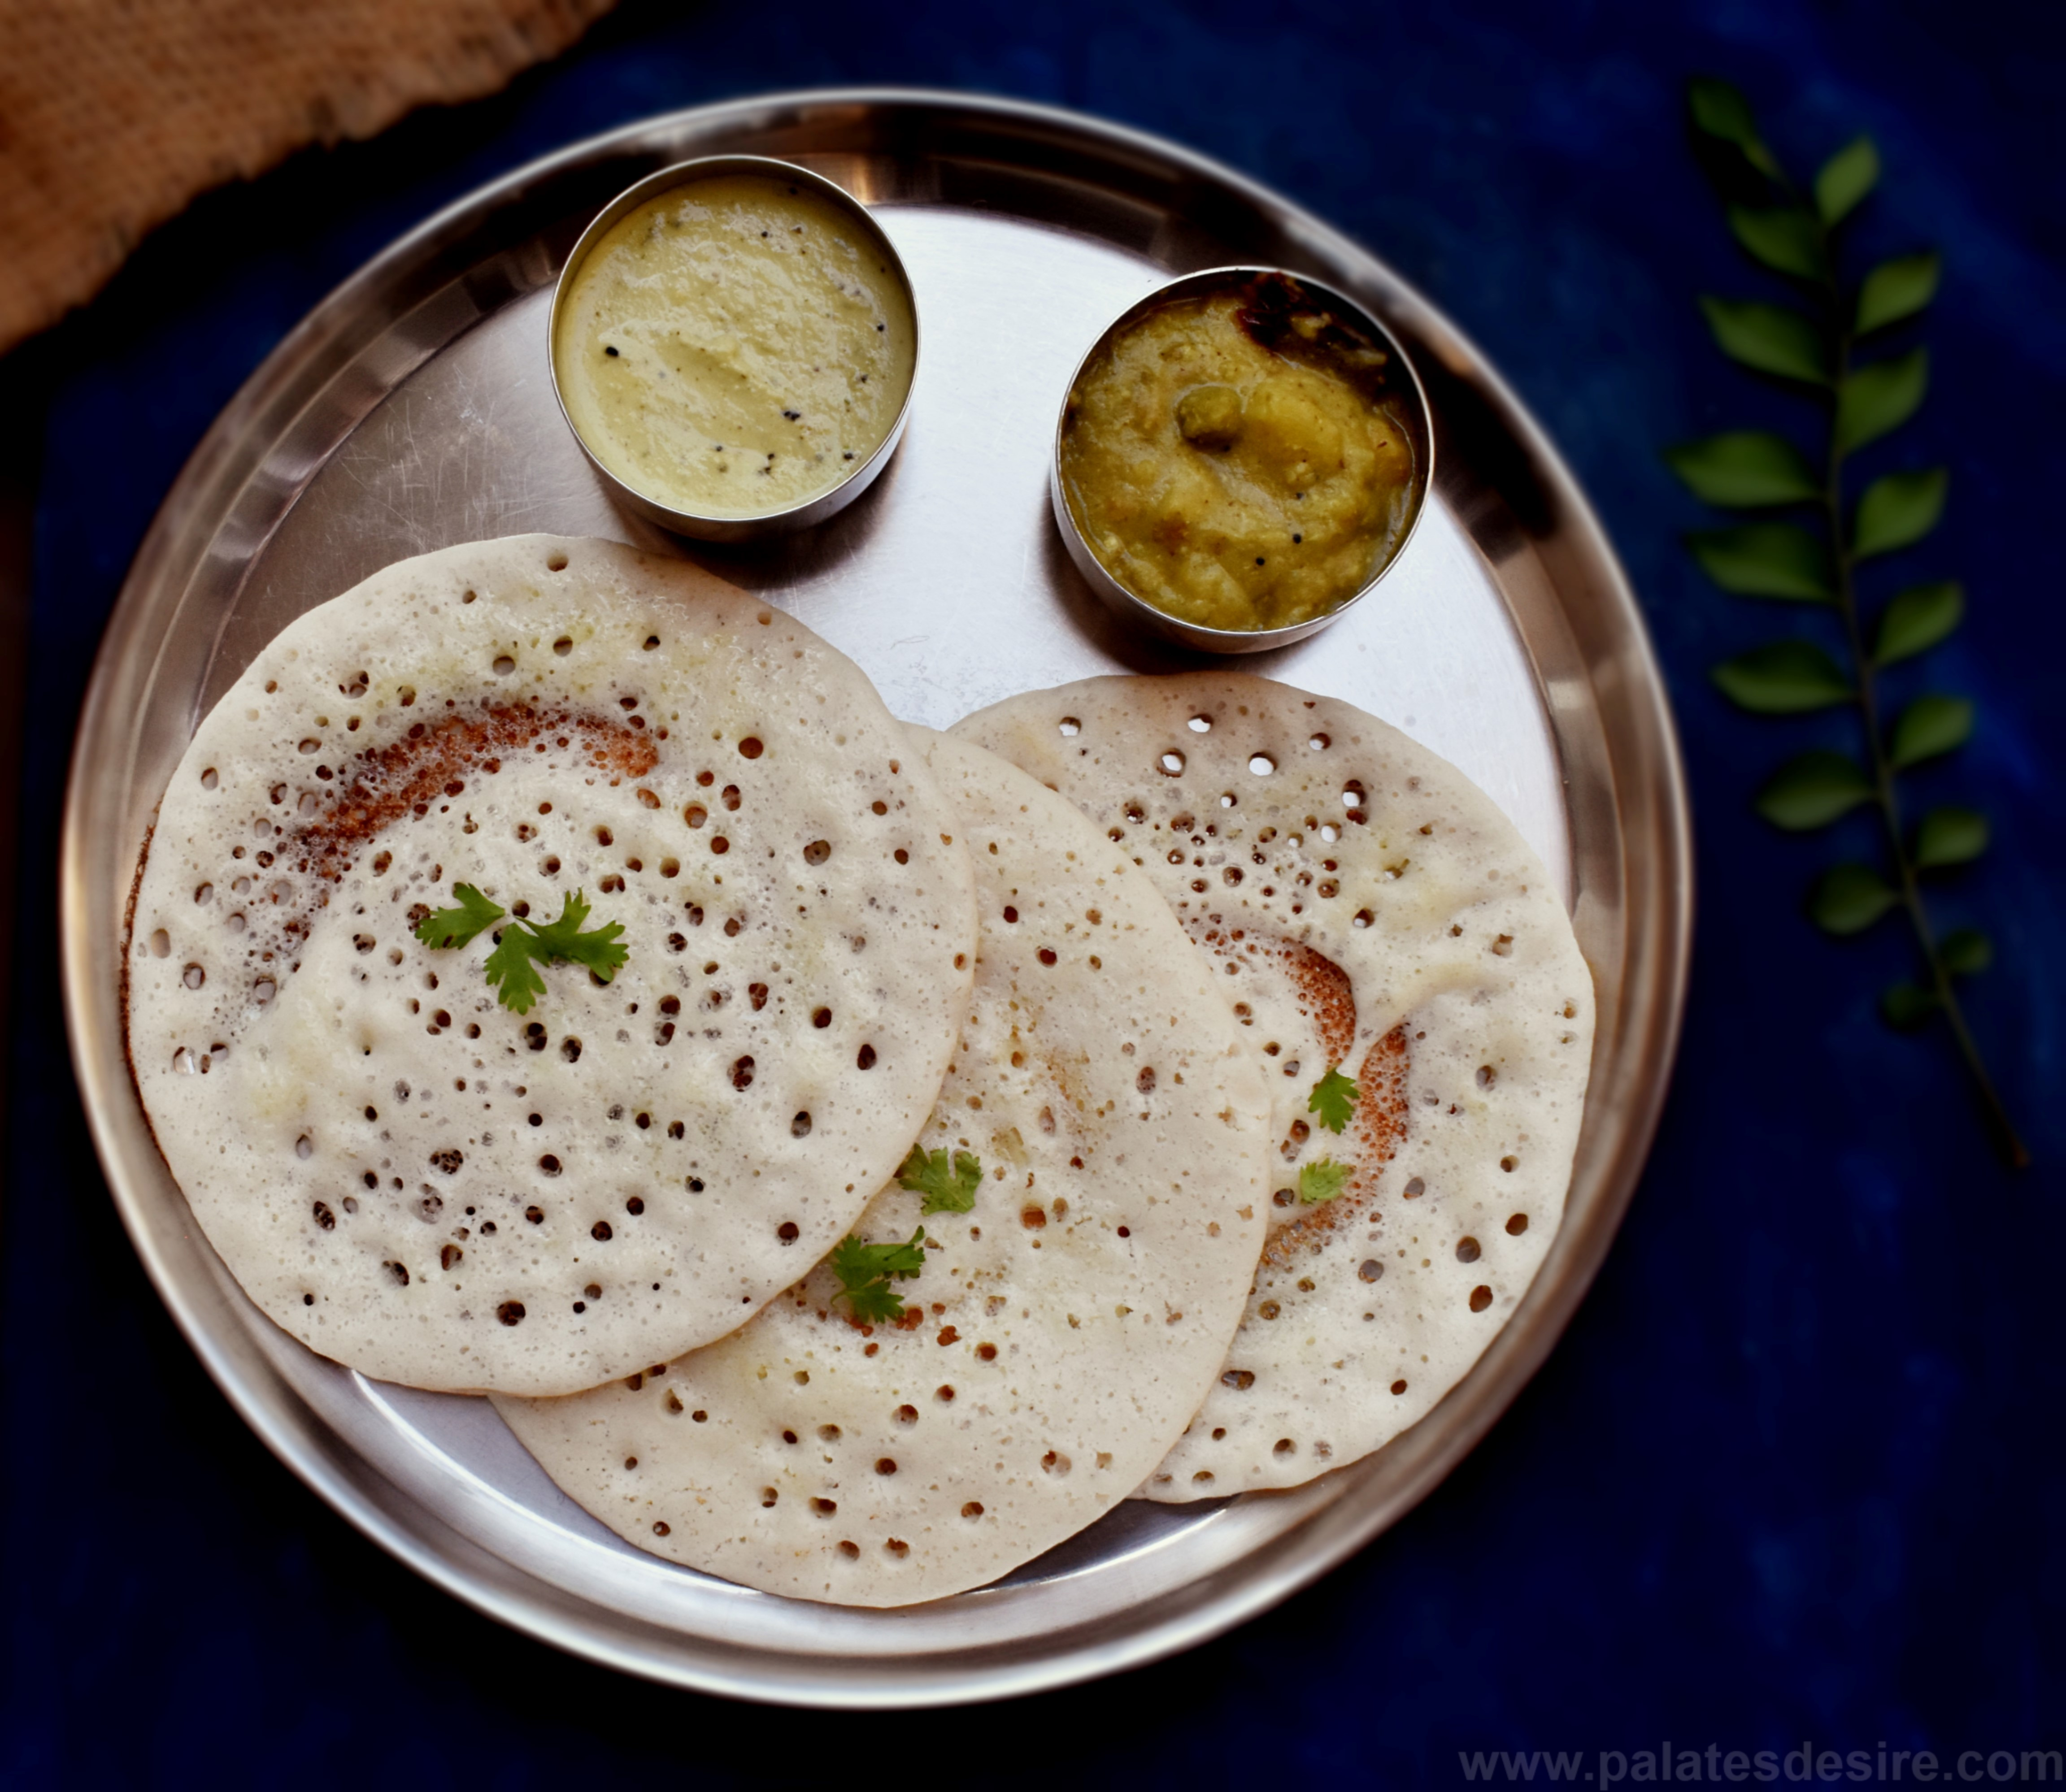dosa: (105, 520, 1688, 1613)
